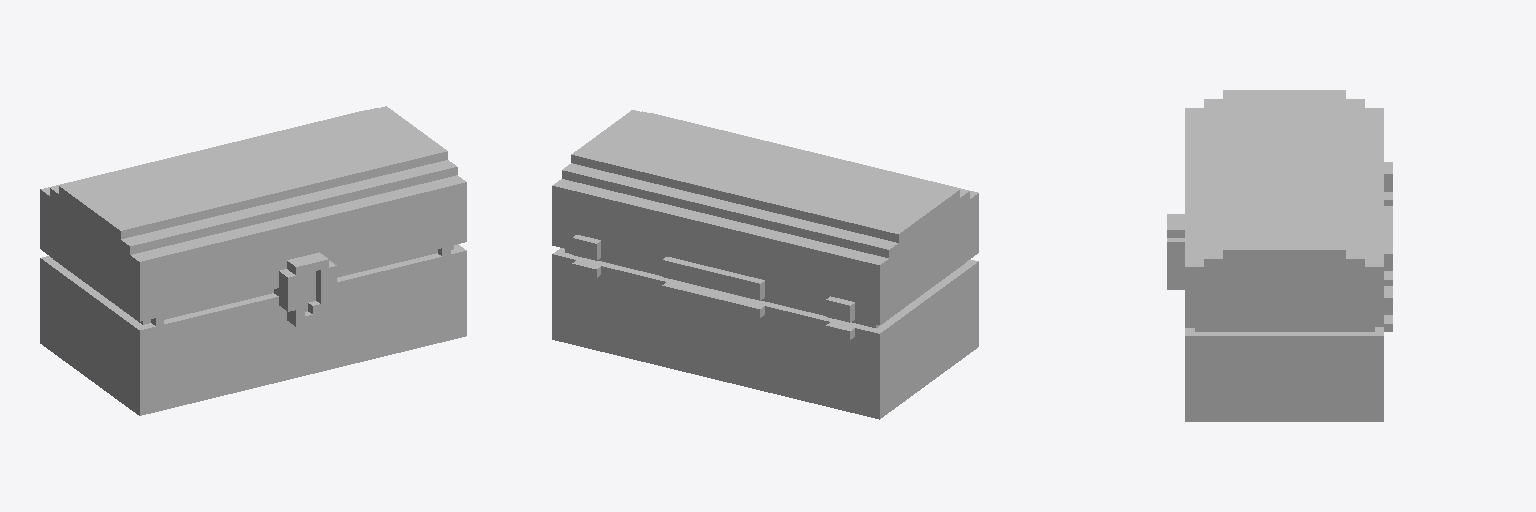
Rendered from LargeChest_01.obj.
3 renders of one model, left to right at view 1: azimuth 30°, elevation 25°; view 2: azimuth 150°, elevation 25°; view 3: azimuth 270°, elevation 25°, orthographic.
Visible parts, largest first — view 1: LargeChest_01.002; view 2: LargeChest_01.002; view 3: LargeChest_01.002.
Boxes of the visible parts, x1,y1,x2,y2 form: LargeChest_01.002: [40, 106, 466, 415]; LargeChest_01.002: [552, 110, 978, 419]; LargeChest_01.002: [1167, 90, 1392, 421].
Bounding box in the file's own units: 4 × 2 × 2.4.